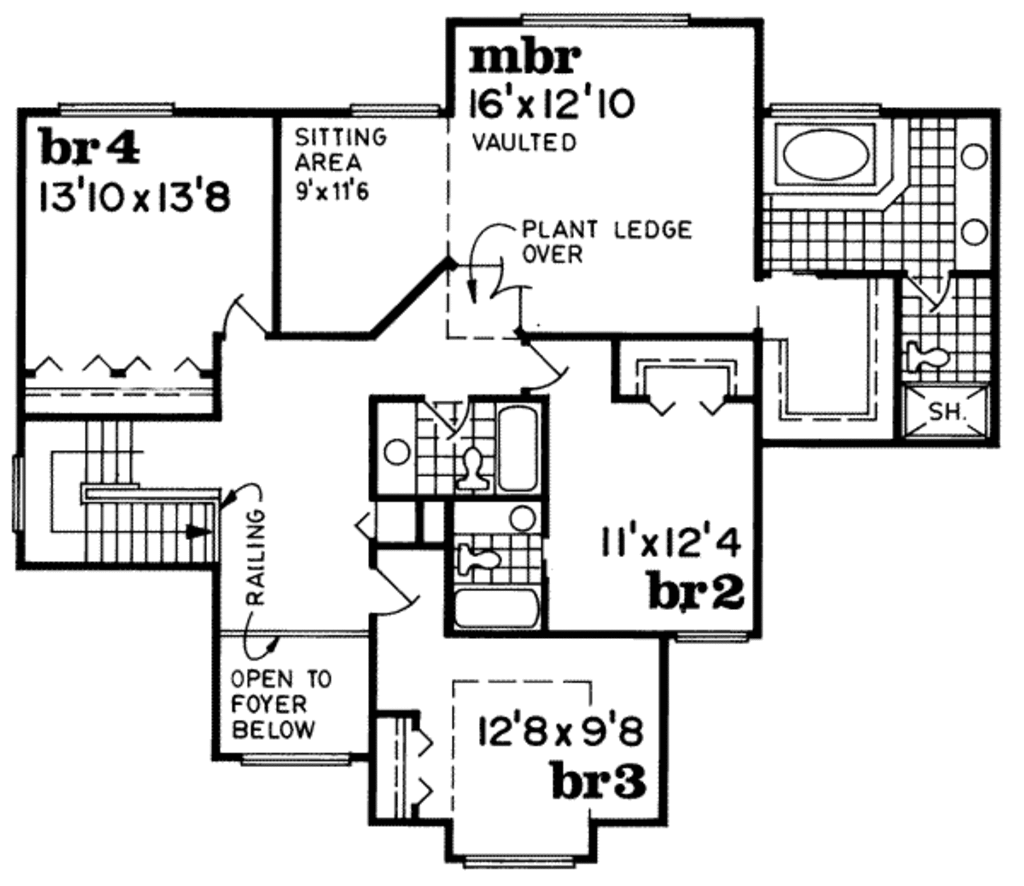door: (356, 561, 426, 619), (513, 339, 568, 394), (215, 289, 268, 344), (912, 265, 963, 316)
large_sink: (457, 539, 512, 581), (452, 448, 497, 496), (904, 337, 954, 372)
small_sink: (961, 122, 993, 252), (498, 502, 539, 535)
stairs: (25, 415, 252, 568)
tub: (771, 116, 883, 182), (495, 400, 550, 500), (456, 586, 547, 626)
window: (510, 8, 693, 38), (45, 92, 186, 127), (347, 96, 441, 126), (454, 849, 580, 871), (241, 749, 358, 771), (669, 623, 752, 650)
